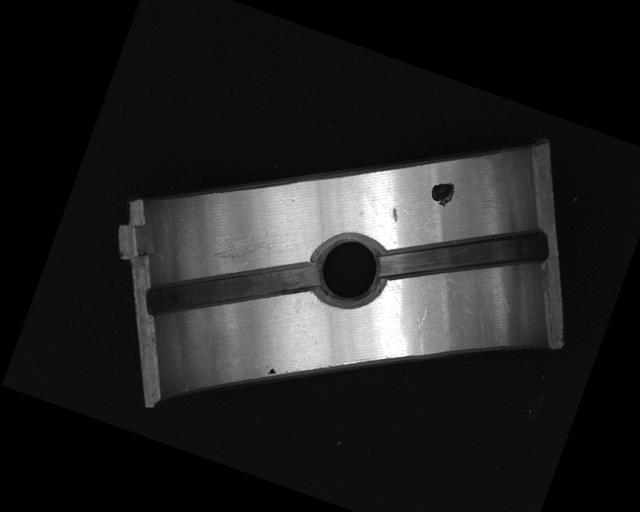blot: (426, 176, 458, 209), (265, 365, 278, 378)
bruise: (405, 305, 440, 356), (389, 205, 402, 223)
gap: (142, 216, 322, 362), (377, 184, 552, 323)
hole: (302, 223, 393, 317)
scratch: (192, 210, 284, 282)
